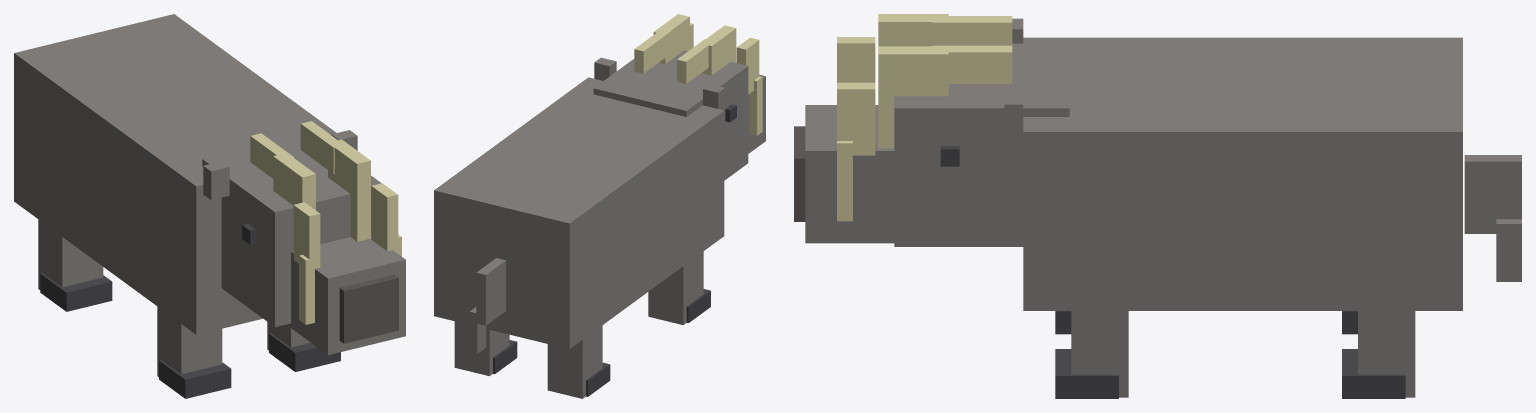
File: babirusa.glb
The picture shows the model from 3 angles, left to right: view 1: azimuth 30°, elevation 25°; view 2: azimuth 150°, elevation 25°; view 3: azimuth 270°, elevation 25°; orthographic projection. The views are drawn at different scales.
Parts seen in each view (by area): view 1: babirusa; view 2: babirusa; view 3: babirusa.
Part boxes in pixels (bbox=[...]): babirusa: bbox=[14, 14, 405, 398]; babirusa: bbox=[434, 14, 765, 398]; babirusa: bbox=[794, 14, 1521, 398].
Size of the model in its own units: 0.7 by 1.11 by 2.28.
